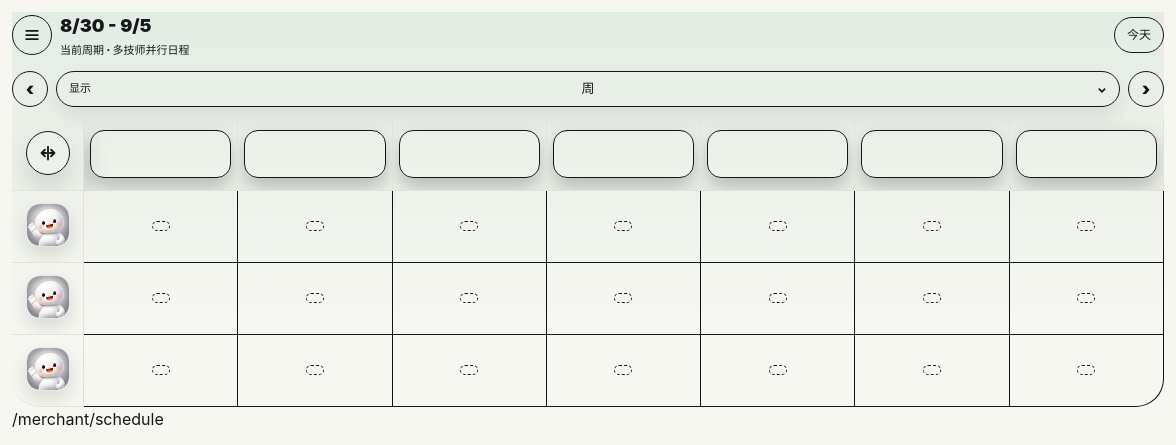
Test: formal merchant schedule staff routing › routes multiple employee rows to public NeeDo ids and leaves a missing public id non-clickable
The image size is (1176, 445).
Click the 1st link: (48, 227) [26,202,70,252]
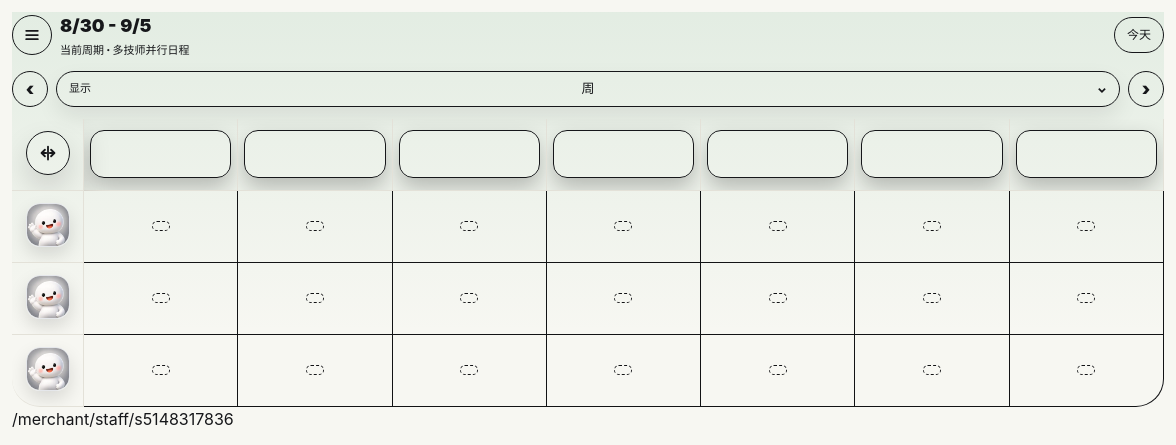
Check: the text with test id "location-probe" reads "/merchant/staff/s5148317836", box [12,408,234,428]
